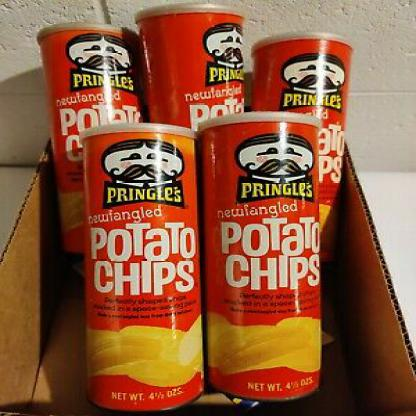potatochip: (193, 111, 327, 405), (85, 121, 206, 410), (133, 0, 250, 257), (40, 21, 149, 263), (250, 35, 354, 267)
